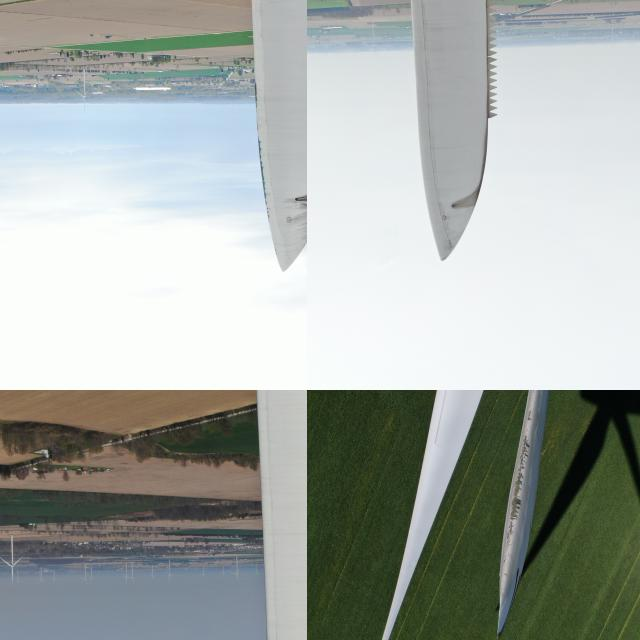damage: (501, 390, 542, 560), (256, 131, 268, 205), (252, 80, 260, 110), (450, 201, 456, 211), (293, 195, 299, 202)
